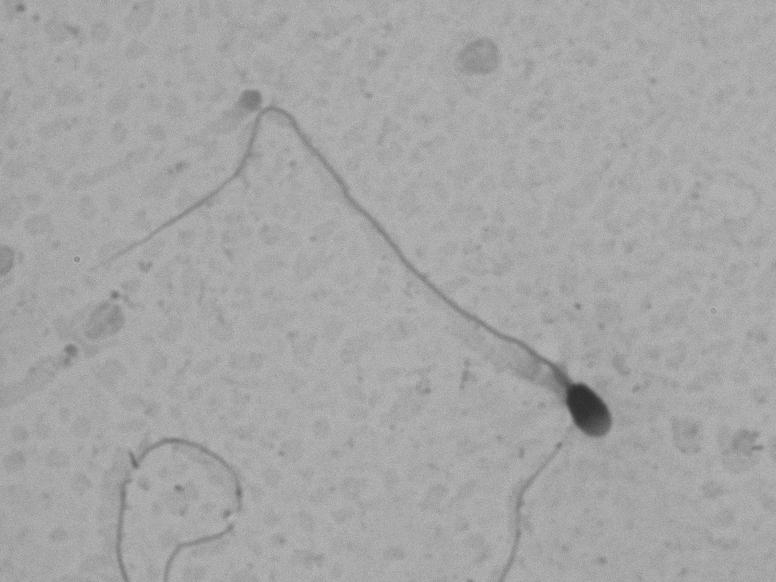Normal: (71, 65, 619, 446)
